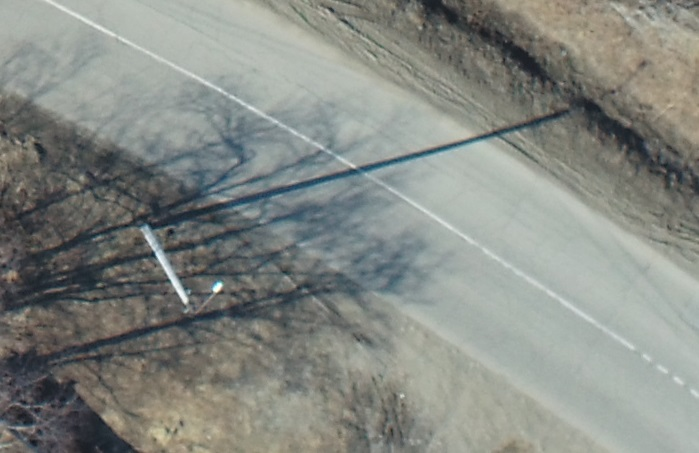opora: (137, 205, 235, 316)
